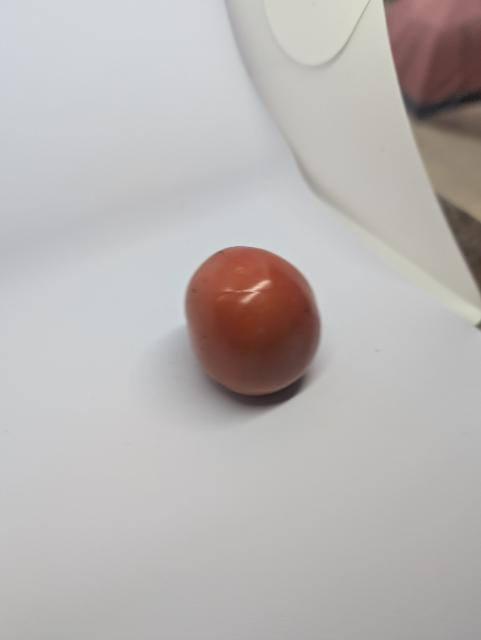red: (180, 235, 335, 426)
